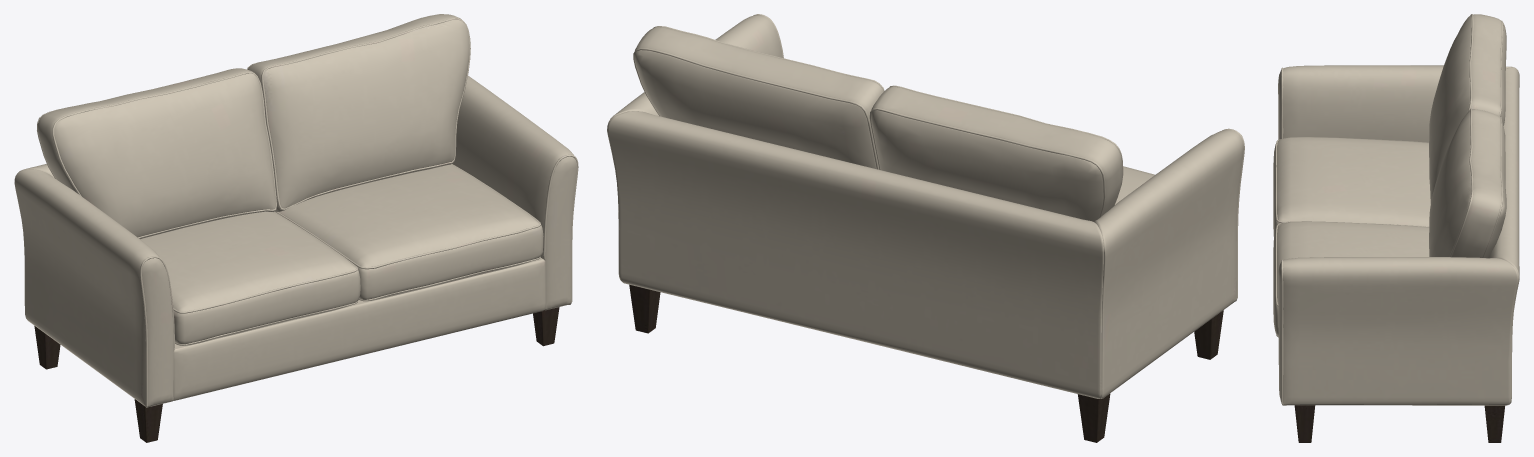
File: ekholma_sofa_2_osobowa_19535587.glb
The picture shows the model from 3 angles, left to right: view 1: azimuth 30°, elevation 25°; view 2: azimuth 150°, elevation 25°; view 3: azimuth 270°, elevation 25°; orthographic projection. The views are drawn at different scales.
Visible parts, largest first — view 1: ekholma_sofa_2_osobowa_19535587; view 2: ekholma_sofa_2_osobowa_19535587; view 3: ekholma_sofa_2_osobowa_19535587.
Boxes of the visible parts, bbox=[...] form: ekholma_sofa_2_osobowa_19535587: bbox=[14, 14, 578, 442]; ekholma_sofa_2_osobowa_19535587: bbox=[607, 14, 1244, 442]; ekholma_sofa_2_osobowa_19535587: bbox=[1273, 14, 1519, 442].
Bounding box in the file's own units: 1.67 × 0.9398 × 0.8501.
1 material, 1 textured.
